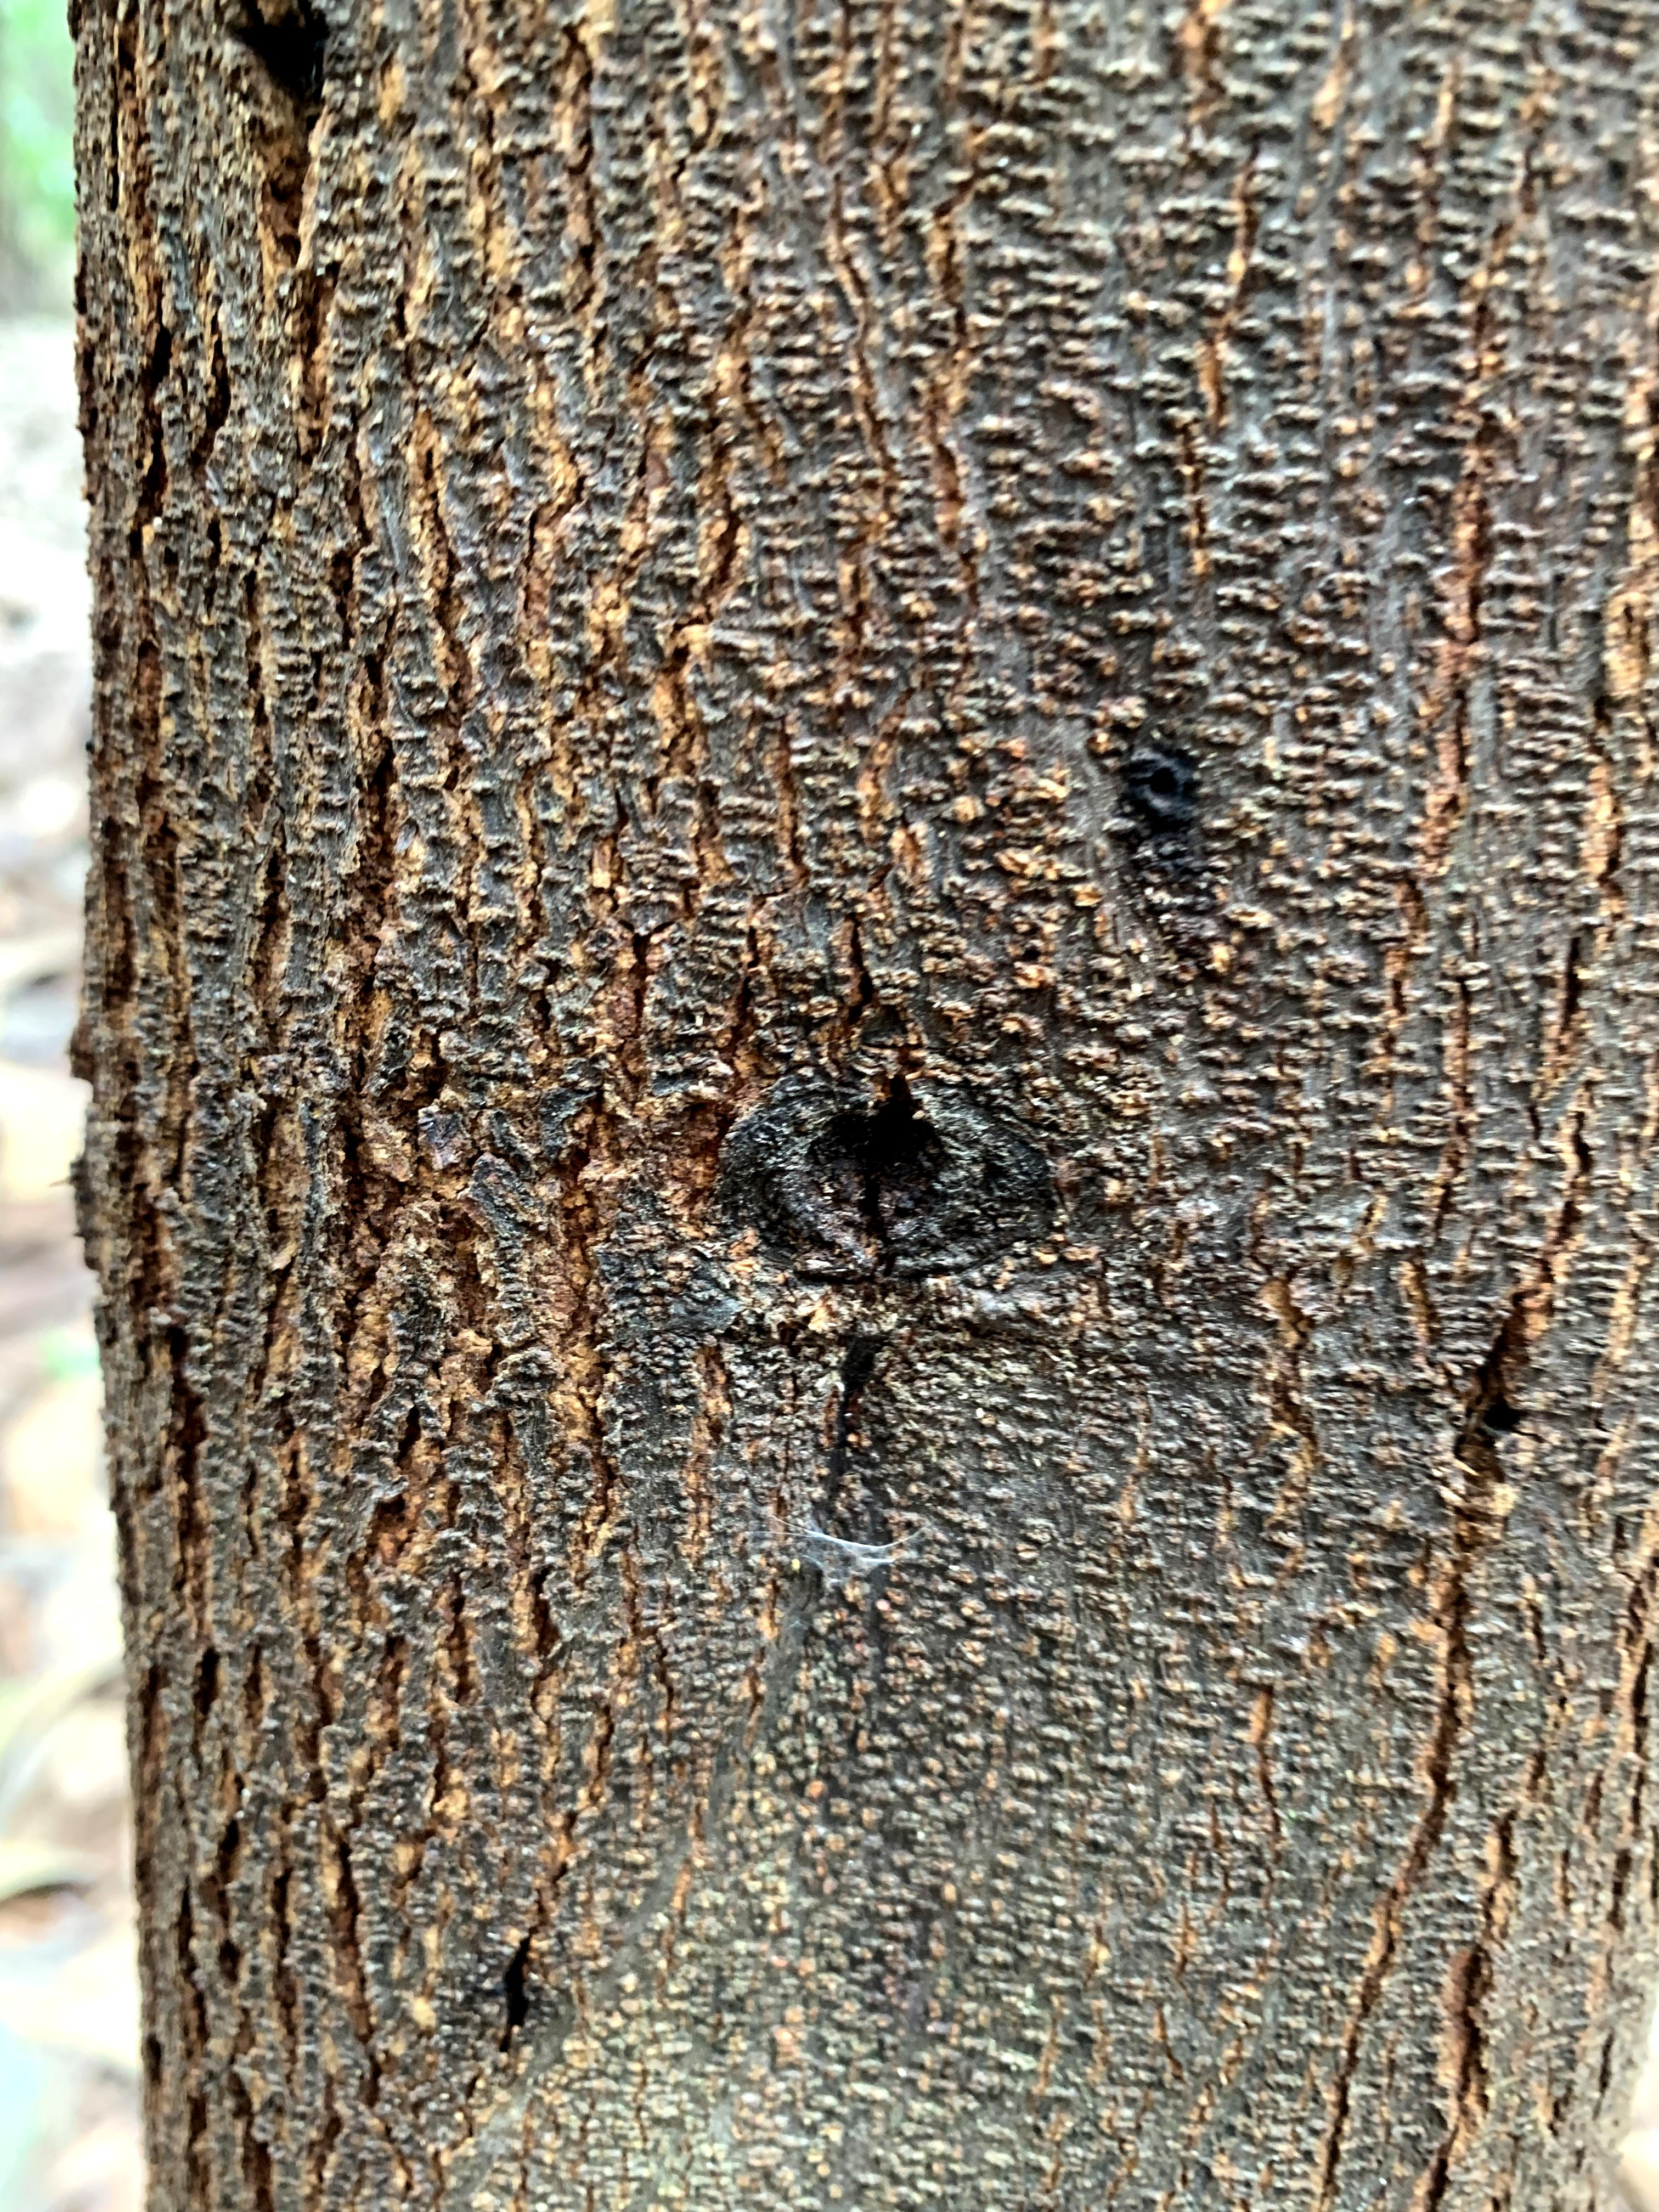Stem Borer: (758, 995, 1061, 1409), (385, 1860, 622, 2156), (209, 0, 437, 239), (1082, 732, 1249, 923)
